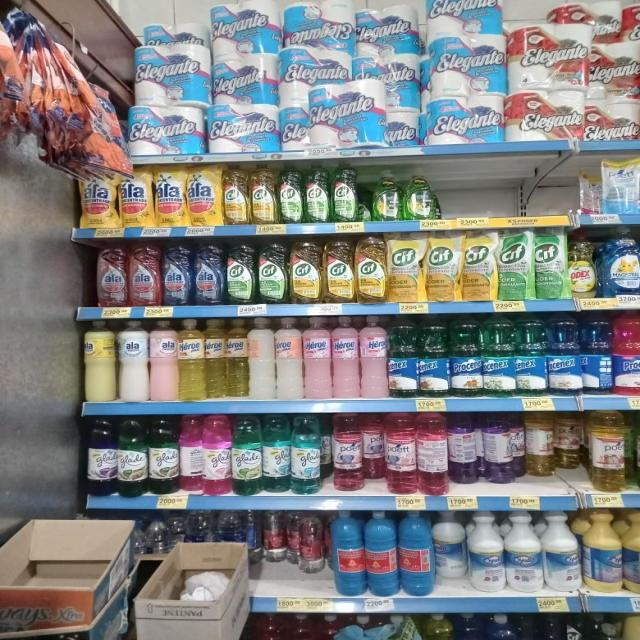ala_conc_azul: (193, 242, 224, 306), (162, 242, 192, 306)
ala_conc_rojo: (94, 242, 127, 308), (129, 241, 161, 307)
ala_crem_blanco: (119, 319, 148, 402)
ala_crem_rosado: (150, 319, 178, 402)
ala_sachet_amarillo: (187, 164, 222, 227), (77, 176, 117, 229), (154, 165, 187, 228), (120, 167, 152, 228)
cif_conc_bot_amarilla: (355, 234, 386, 304), (290, 239, 322, 304), (323, 238, 354, 304), (250, 166, 276, 225), (223, 167, 249, 225)
cif_conc_botella_verde: (257, 241, 288, 305), (226, 242, 256, 306), (331, 163, 360, 222), (304, 164, 329, 223), (278, 166, 303, 224)
cif_conc_sachet_amarillo: (425, 230, 461, 302), (388, 231, 423, 303), (462, 228, 496, 300)
cif_conc_sachet_verde: (497, 228, 533, 300), (533, 227, 567, 299)
heroe: (359, 314, 388, 399), (303, 315, 331, 399), (332, 314, 359, 400), (178, 318, 204, 401), (226, 317, 248, 399), (205, 317, 226, 400)
magistral_con_amarillo: (426, 613, 454, 640)
magistral_con_azul: (600, 224, 640, 296), (537, 614, 584, 640), (486, 613, 531, 640), (455, 612, 485, 640)
